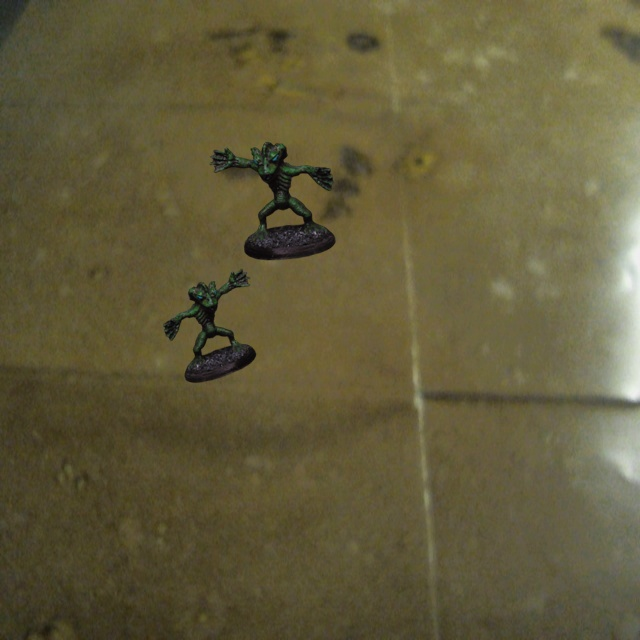pieza_juego: (209, 142, 335, 259), (163, 269, 255, 382)
